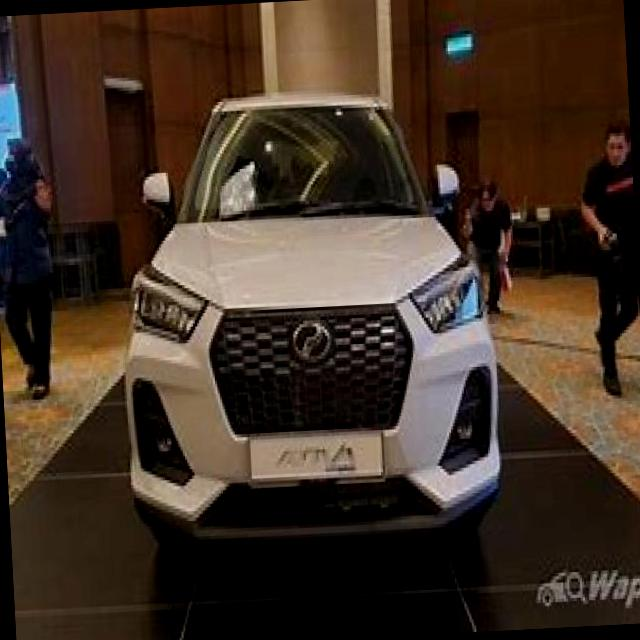PeroduaAtiva: (107, 78, 508, 563)
